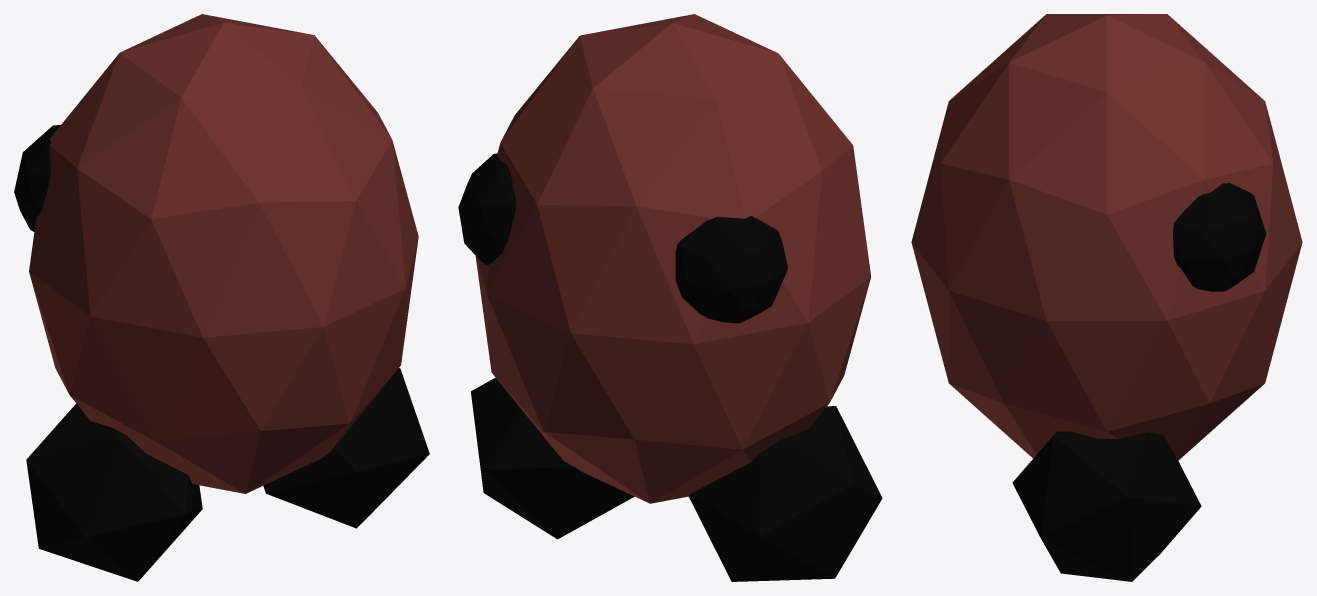
Rendered from explode.f0020.glb.
3 views of the same model, side by side, from view 1: azimuth 30°, elevation 25°; view 2: azimuth 150°, elevation 25°; view 3: azimuth 270°, elevation 25° (orthographic). The views are drawn at different scales.
Visible parts, largest first — view 1: Body.001; view 2: Body.001; view 3: Body.001.
Part boxes in pixels (box(x1,y1,x2,y2)): Body.001: box(14, 14, 429, 581); Body.001: box(458, 14, 882, 581); Body.001: box(911, 14, 1302, 581).
Size of the model in its own units: 2.17 by 2.85 by 2.
1 material, 1 textured.
